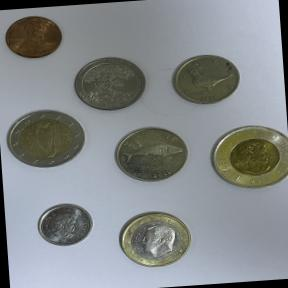coin: (196, 112, 288, 196), (111, 204, 200, 272), (1, 104, 88, 172), (107, 120, 194, 188), (70, 50, 148, 114), (0, 8, 69, 65), (32, 198, 97, 251)
